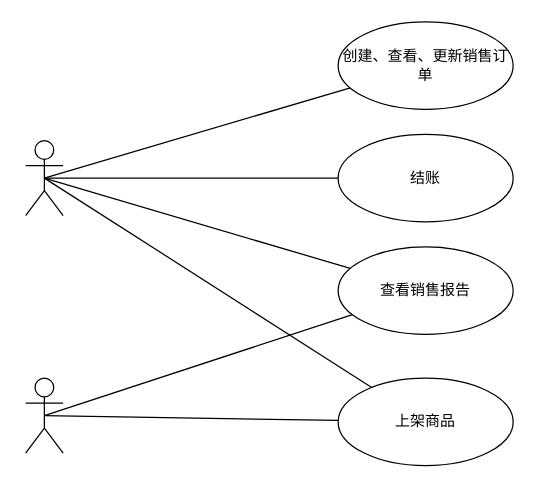
Some shapes in this 535 by 501 pixel diagram are drawn without their labels. Here are the shapes that lost their labels. From the top down, the box of each, then its label:
(24, 139, 63, 216): 营业员
(24, 377, 63, 453): 管理员
